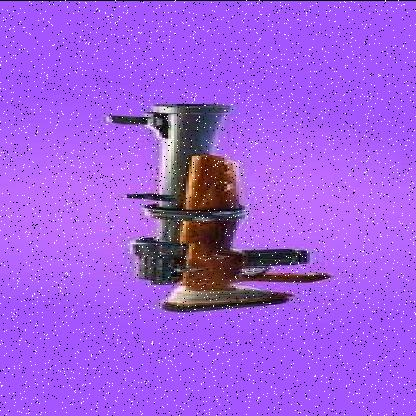rifle: (86, 91, 369, 327)
